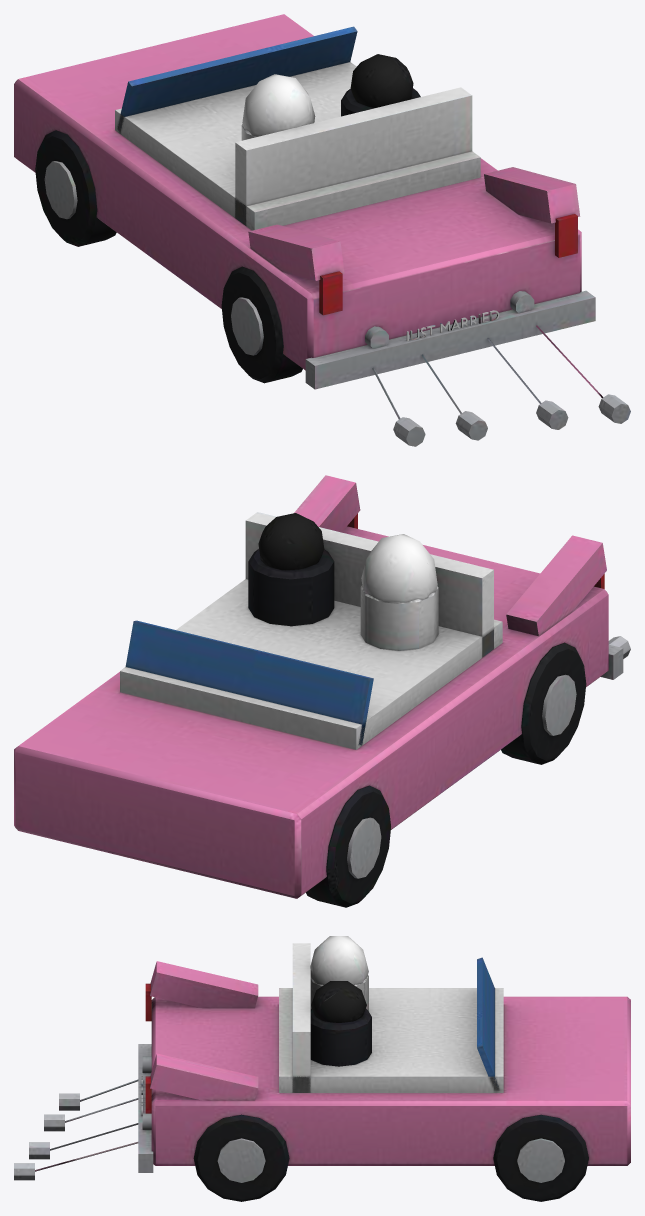
Rendered from descapotable.glb.
3 renders of one model, top to bottom at view 1: azimuth 30°, elevation 25°; view 2: azimuth 150°, elevation 25°; view 3: azimuth 270°, elevation 25°, orthographic. The views are drawn at different scales.
Parts seen in each view (by area): view 1: descapotable; view 2: descapotable; view 3: descapotable.
Part boxes in pixels (<box>): descapotable: <box>14,14,630,446</box>; descapotable: <box>14,475,630,907</box>; descapotable: <box>14,936,630,1201</box>.
Size of the model in its own units: 1.8 by 1.41 by 4.12.
1 material, 1 textured.
